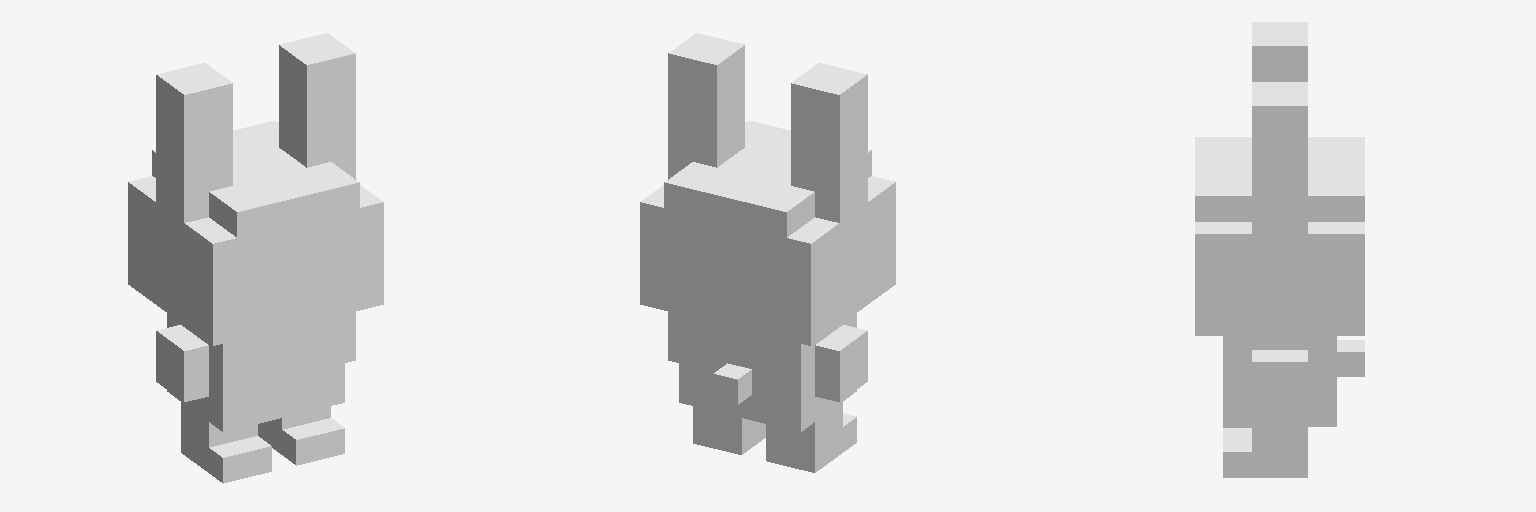
File: tokii_strawberry_noHat.obj
3 views of the same model, side by side, from view 1: azimuth 30°, elevation 25°; view 2: azimuth 150°, elevation 25°; view 3: azimuth 270°, elevation 25° (orthographic).
Parts seen in each view (by area): view 1: object 1; view 2: object 1; view 3: object 1.
Part boxes in pixels (left/top/right/bottom): object 1: left=128, top=33, right=383, bottom=483; object 1: left=640, top=33, right=895, bottom=472; object 1: left=1195, top=22, right=1364, bottom=477.
Size of the model in its own units: 0.7 by 1.5 by 0.6.